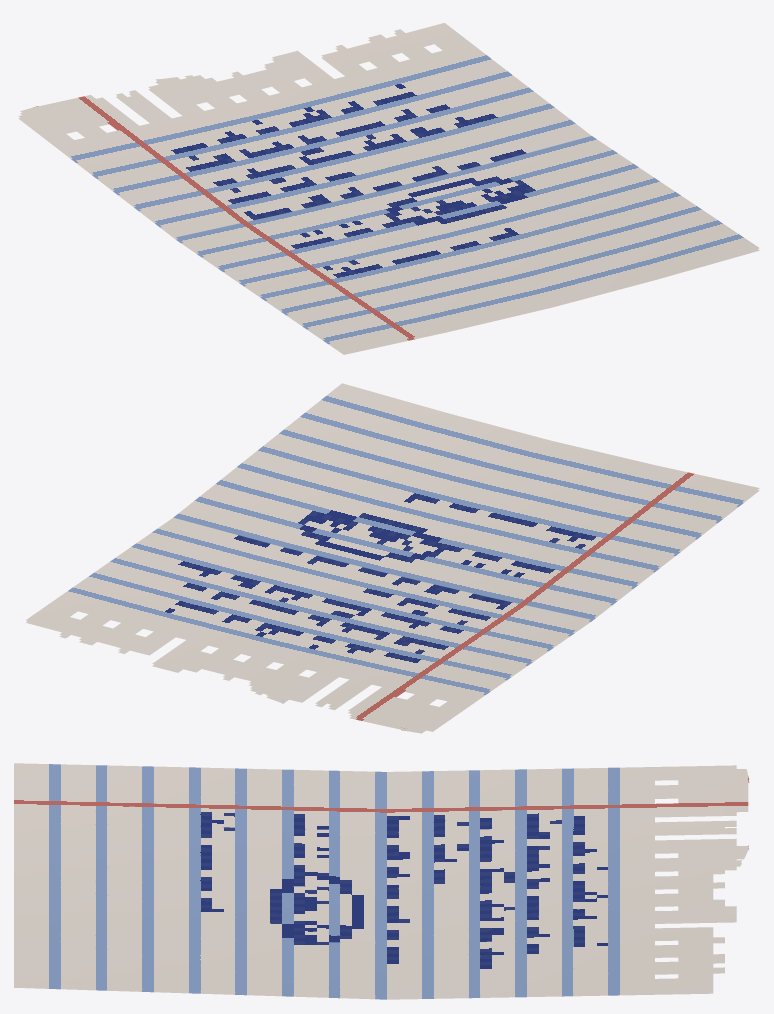
File: psx_torn_note_page.obj
3 views of the same model, one above another, from view 1: azimuth 30°, elevation 25°; view 2: azimuth 150°, elevation 25°; view 3: azimuth 270°, elevation 25° (orthographic). The views are drawn at different scales.
Parts seen in each view (by area): view 1: torn_note_page; view 2: torn_note_page; view 3: torn_note_page.
Part boxes in pixels (<box>): torn_note_page: <box>18,23,759,354</box>; torn_note_page: <box>26,383,759,733</box>; torn_note_page: <box>14,763,749,999</box>.
Bounding box in the file's own units: 0.15 × 0.0057 × 0.21.
1 material, 1 textured.
